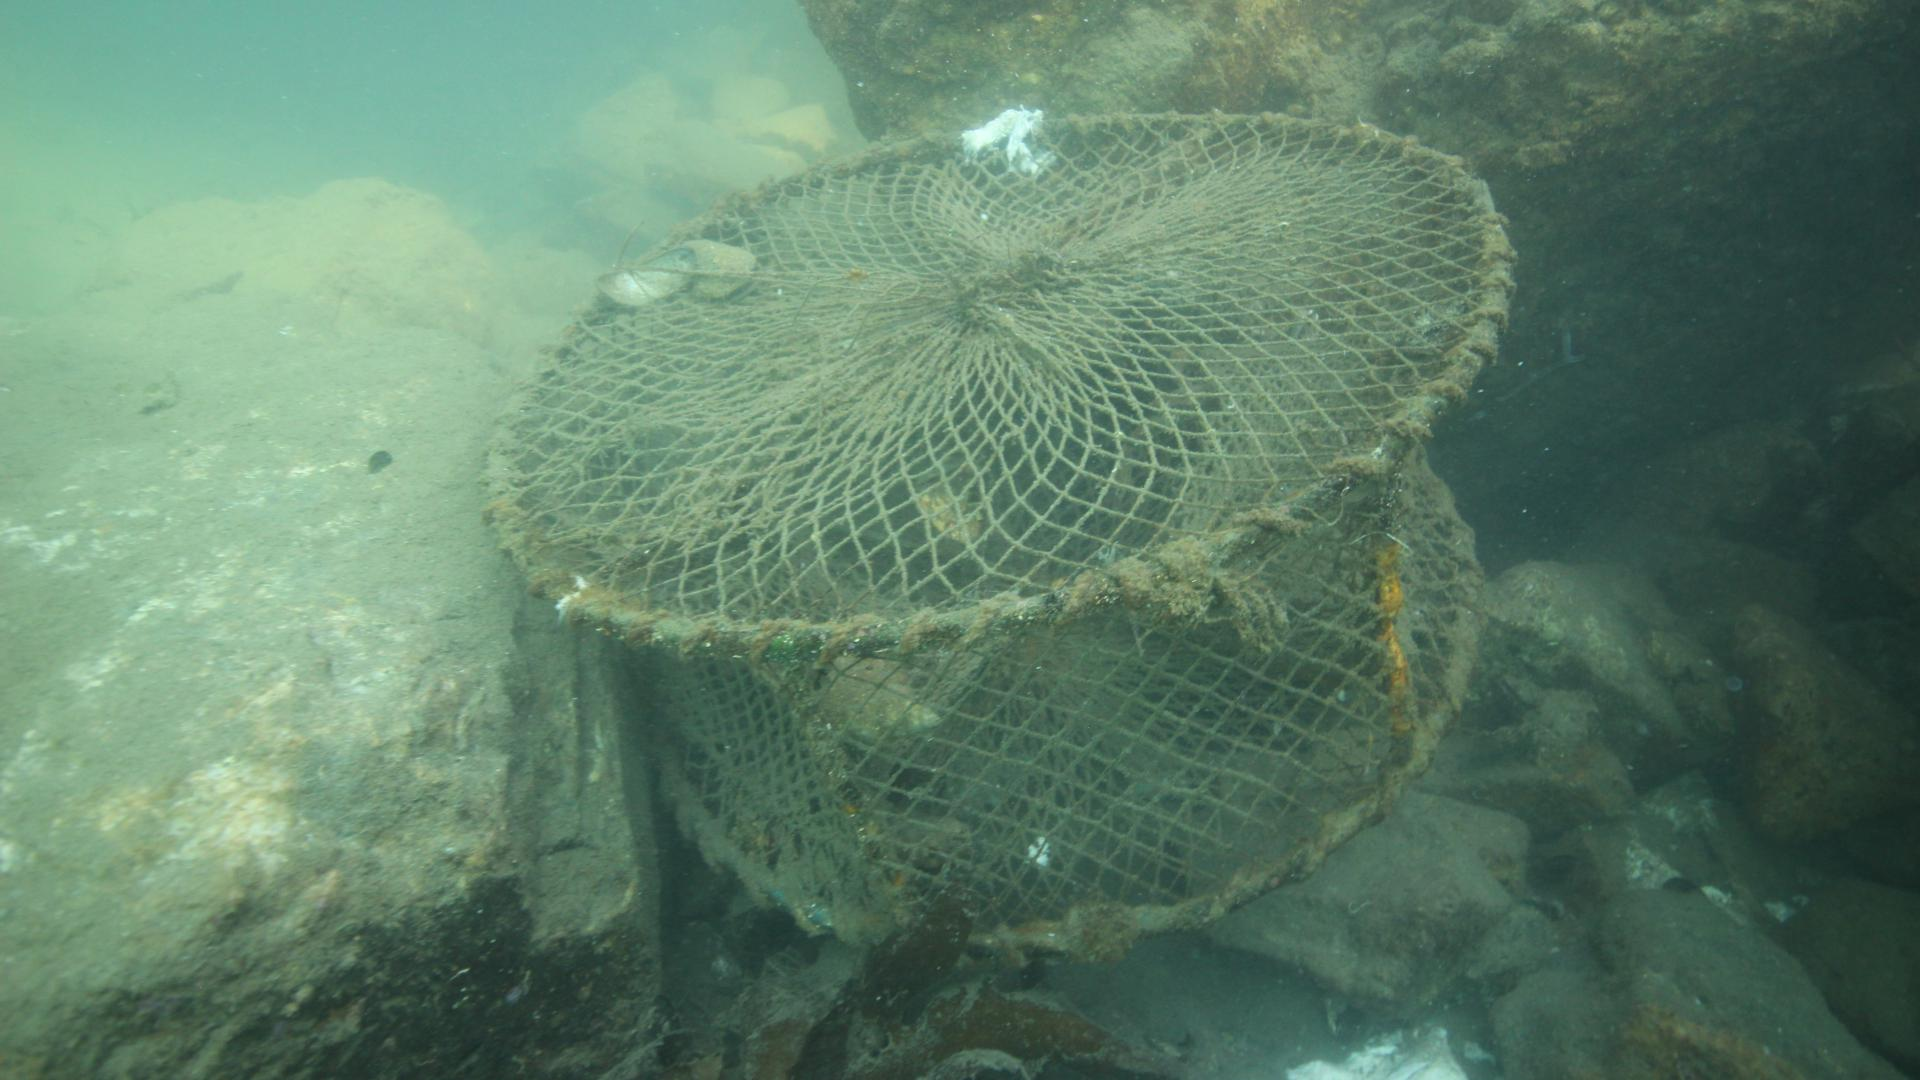circular fish trap: (477, 104, 1519, 953)
